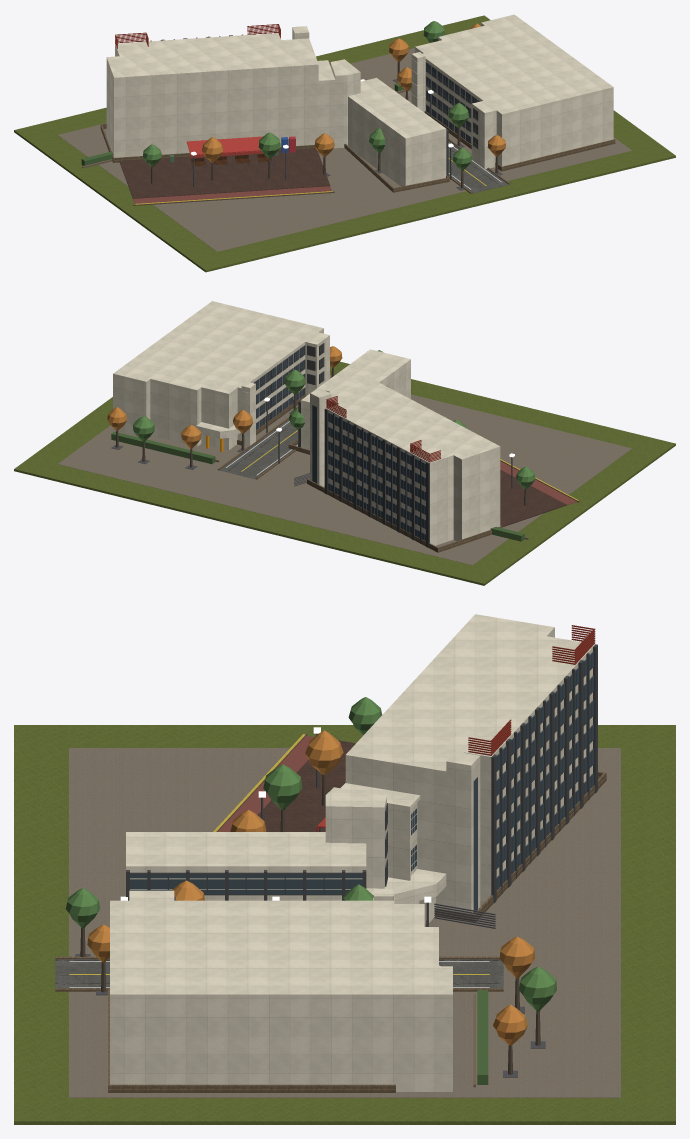
File: zone5.glb
3 views of the same model, one above another, from view 1: azimuth 30°, elevation 25°; view 2: azimuth 150°, elevation 25°; view 3: azimuth 270°, elevation 25° (orthographic). The views are drawn at different scales.
Parts seen in each view (by area): view 1: MH_Mass_Main, WH_Site_GrassApron, WH_Site_Pavement, WH_Site_Plaza, WH_Fac_Hall01_Base, WH_Site_Tree_Leaf, WH_Site_Tree_Autumn, Frame, WH_Site_PlazaApron, WH_Site_Alley, Glass_Lower_01, WH_Site_Awning (+4 smaller); view 2: MH_Mass_Main, WH_Site_Pavement, WH_Site_GrassApron, Frame, Glass_Lower_01, WH_Site_Alley, WH_Site_Plaza, WH_Fac_Hall01_Base, WH_Site_Tree_Leaf, WH_Site_Hedge, WH_Site_Tree_Autumn, RoofFence (+1 smaller); view 3: MH_Mass_Main, WH_Site_GrassApron, WH_Site_Pavement, Frame, Glass_Lower_01, WH_Fac_Hall01_Base, WH_Site_Tree_Autumn, WH_Site_Tree_Leaf, WH_Site_Alley, WH_Site_Plaza, RoofFence, WH_Site_PlazaApron (+3 smaller).
Part boxes in pixels (x1=…): MH_Mass_Main: x1=106, y1=14, x2=613, y2=186; WH_Site_GrassApron: x1=14, y1=15, x2=675, y2=272; WH_Site_Pavement: x1=58, y1=48, x2=631, y2=251; WH_Site_Plaza: x1=119, y1=149, x2=330, y2=198; WH_Fac_Hall01_Base: x1=100, y1=110, x2=615, y2=205; WH_Site_Tree_Leaf: x1=142, y1=21, x2=471, y2=170; WH_Site_Tree_Autumn: x1=202, y1=23, x2=505, y2=162; Frame: x1=118, y1=32, x2=479, y2=176; WH_Site_PlazaApron: x1=133, y1=186, x2=331, y2=203; WH_Site_Alley: x1=448, y1=141, x2=508, y2=193; Glass_Lower_01: x1=426, y1=63, x2=478, y2=143; WH_Site_Awning: x1=186, y1=136, x2=263, y2=157; MH_Mass_Main: x1=113, y1=301, x2=500, y2=545; WH_Site_Pavement: x1=58, y1=374, x2=631, y2=565; WH_Site_GrassApron: x1=14, y1=361, x2=675, y2=585; Frame: x1=254, y1=343, x2=429, y2=547; Glass_Lower_01: x1=254, y1=346, x2=425, y2=541; WH_Site_Alley: x1=219, y1=419, x2=298, y2=478; WH_Site_Plaza: x1=500, y1=470, x2=566, y2=527; WH_Fac_Hall01_Base: x1=217, y1=394, x2=580, y2=552; WH_Site_Tree_Leaf: x1=133, y1=350, x2=535, y2=489; WH_Site_Hedge: x1=111, y1=431, x2=524, y2=541; WH_Site_Tree_Autumn: x1=107, y1=346, x2=342, y2=448; RoofFence: x1=326, y1=396, x2=440, y2=462; MH_Mass_Main: x1=110, y1=614, x2=594, y2=1091; WH_Site_GrassApron: x1=14, y1=725, x2=675, y2=1124; WH_Site_Pavement: x1=69, y1=748, x2=620, y2=1097; Frame: x1=126, y1=644, x2=597, y2=903; Glass_Lower_01: x1=130, y1=651, x2=593, y2=912; WH_Fac_Hall01_Base: x1=55, y1=733, x2=606, y2=1092; WH_Site_Tree_Autumn: x1=87, y1=730, x2=534, y2=1045; WH_Site_Tree_Leaf: x1=65, y1=697, x2=556, y2=1011; WH_Site_Alley: x1=55, y1=959, x2=503, y2=988; WH_Site_Plaza: x1=257, y1=740, x2=355, y2=831; RoofFence: x1=468, y1=625, x2=595, y2=755; WH_Site_PlazaApron: x1=218, y1=736, x2=313, y2=831.
Size of the model in its own units: 68 by 13.22 by 48.
25 materials, 7 textured.
